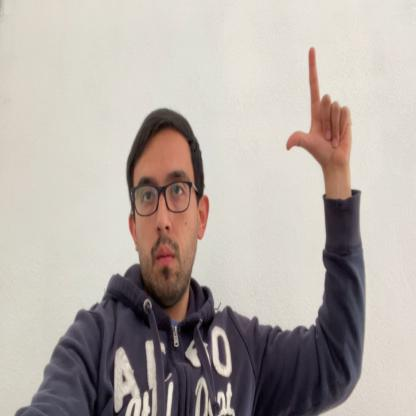L: (285, 44, 353, 174)
